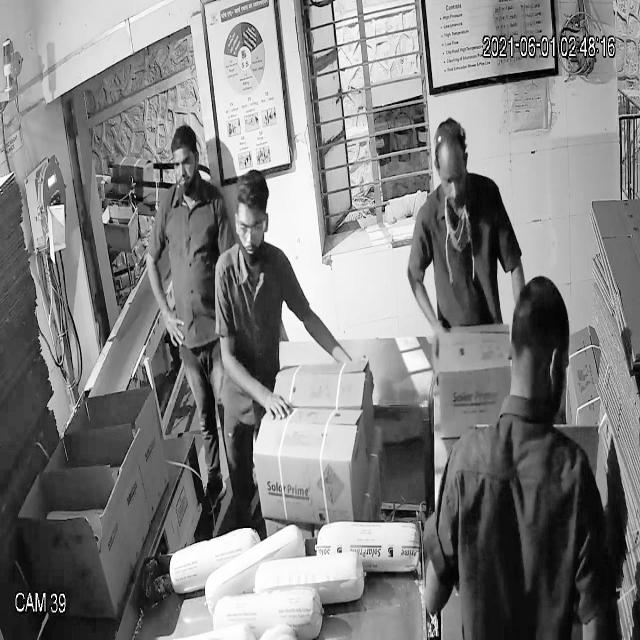glasses: (229, 211, 276, 245)
no-glass: (434, 159, 472, 193), (164, 147, 200, 176)
